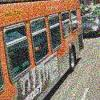buses: (2, 0, 81, 100)
